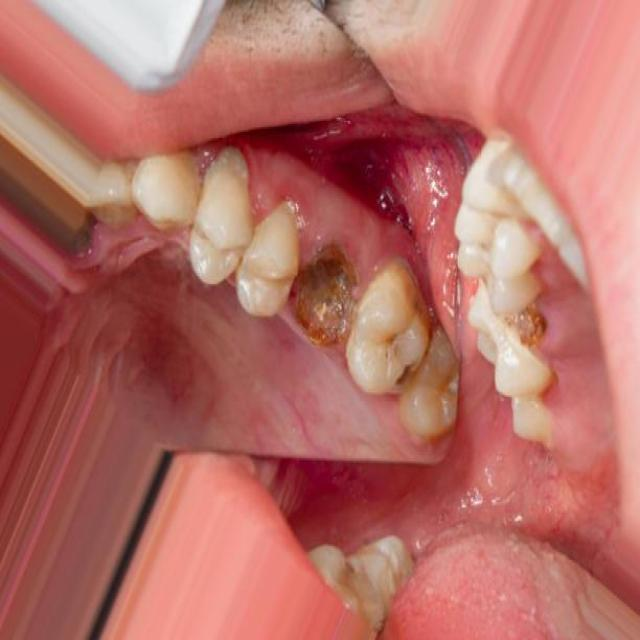caries: (274, 246, 366, 358), (496, 286, 564, 376), (388, 352, 418, 399)
